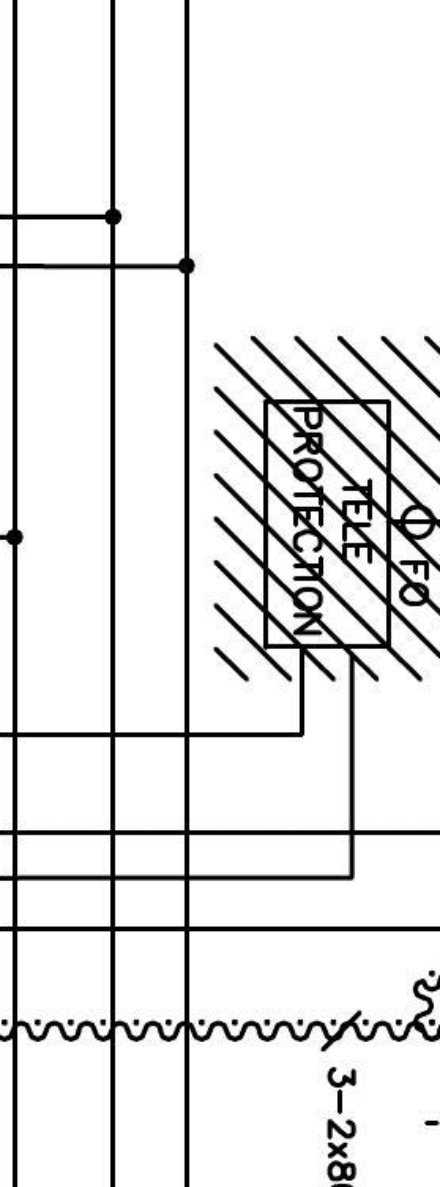tele_protection: (258, 395, 394, 653)
